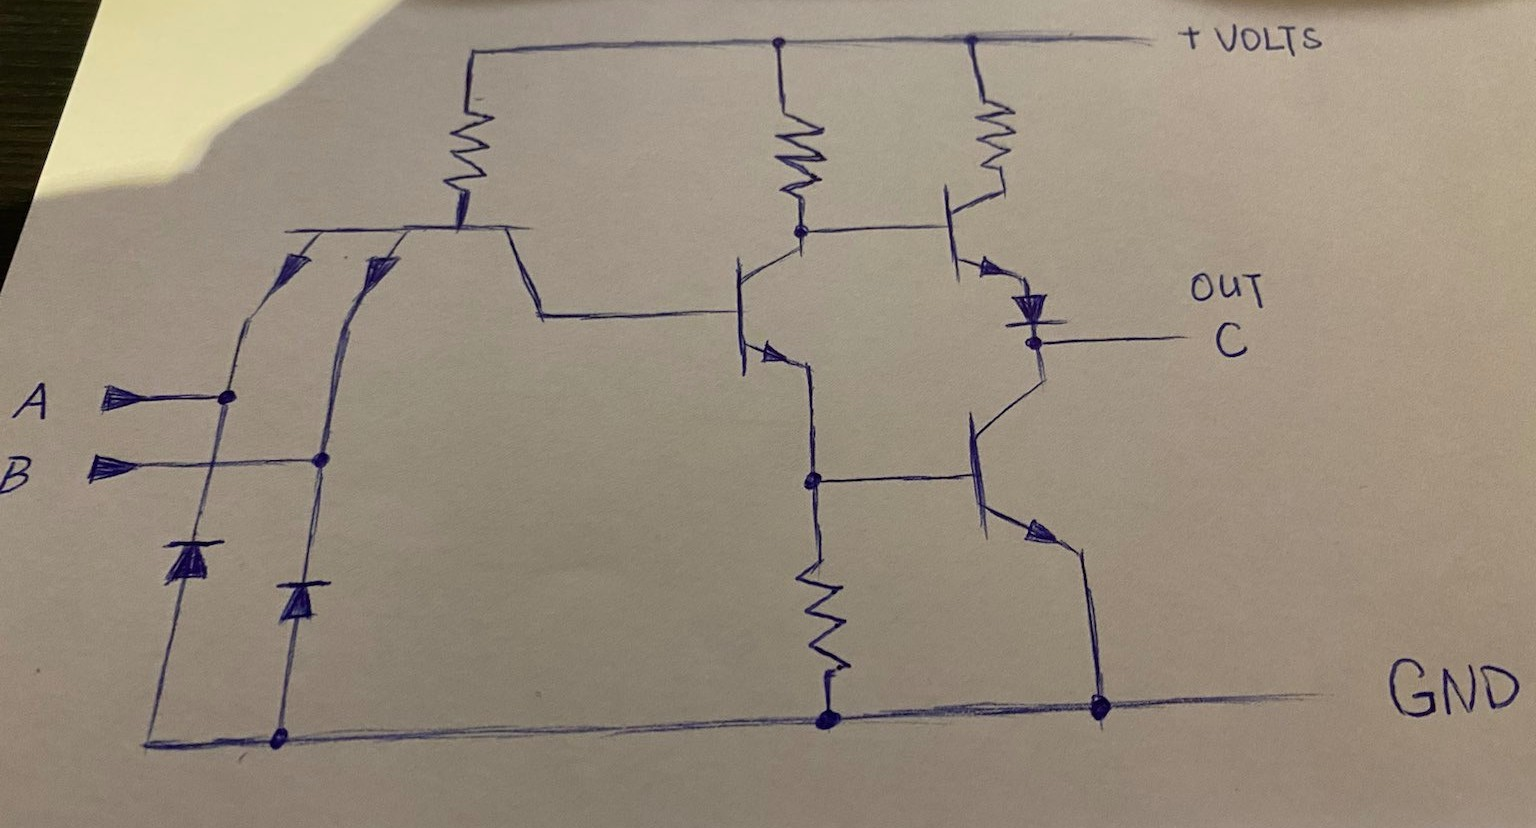crossover: (201, 454, 229, 474)
diode: (156, 527, 228, 593), (268, 565, 336, 633), (999, 289, 1072, 330)
junction: (1077, 681, 1129, 733), (257, 720, 307, 759), (807, 698, 849, 744), (797, 459, 834, 500), (133, 724, 170, 763), (299, 441, 339, 476), (758, 28, 801, 60), (955, 21, 989, 57), (208, 380, 243, 413), (782, 213, 817, 243), (457, 38, 491, 61), (1020, 333, 1057, 355)
resistor: (792, 553, 865, 680), (772, 103, 829, 203), (443, 103, 497, 203), (971, 88, 1029, 173)
terminal: (82, 449, 156, 487), (92, 380, 164, 416), (1270, 675, 1340, 711), (1110, 27, 1163, 57), (1152, 322, 1193, 348)
text: (1385, 651, 1524, 725), (1211, 17, 1324, 60), (1184, 264, 1274, 312), (1212, 317, 1260, 364), (10, 378, 50, 425), (1, 453, 36, 499), (1176, 22, 1203, 50)
transistor: (239, 213, 553, 337), (955, 373, 1096, 562), (719, 244, 827, 385), (932, 178, 1050, 284)
